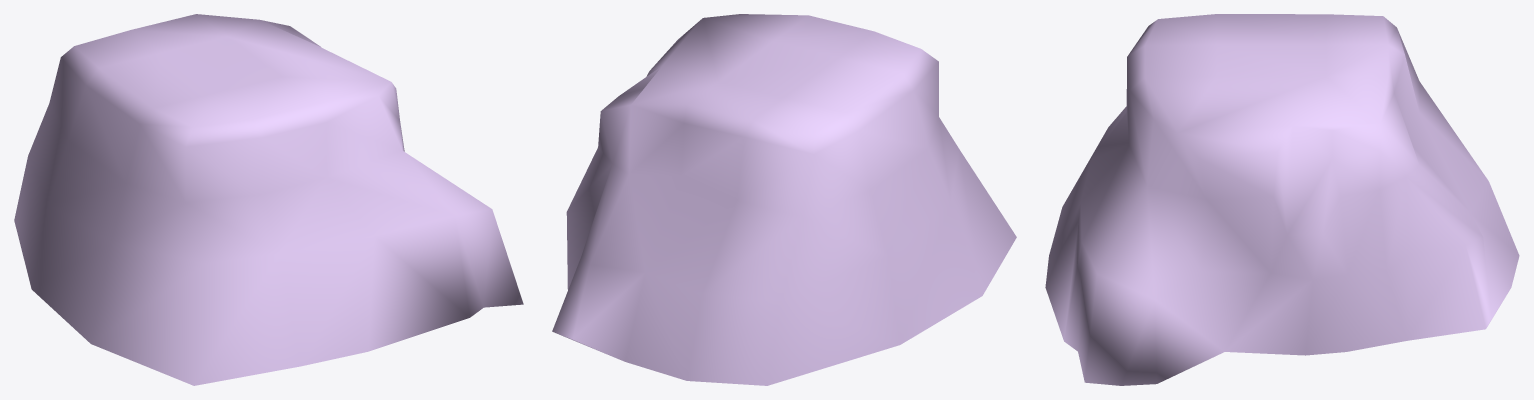
File: GreenHillRock.obj
3 views of the same model, side by side, from view 1: azimuth 30°, elevation 25°; view 2: azimuth 150°, elevation 25°; view 3: azimuth 270°, elevation 25° (orthographic).
Size of the model in its own units: 21.4 by 11.91 by 23.09.
